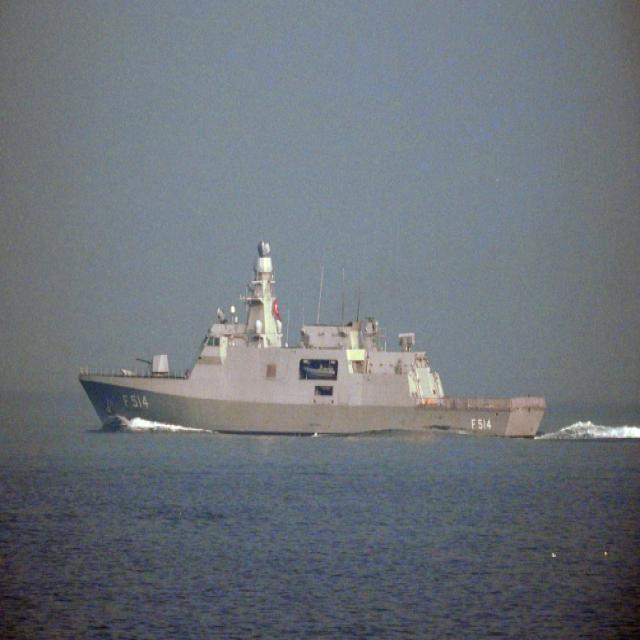Fragata: (72, 232, 548, 443)
